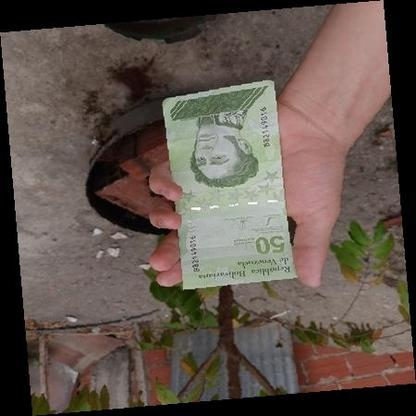fifty-front-vef: (162, 78, 298, 289)
